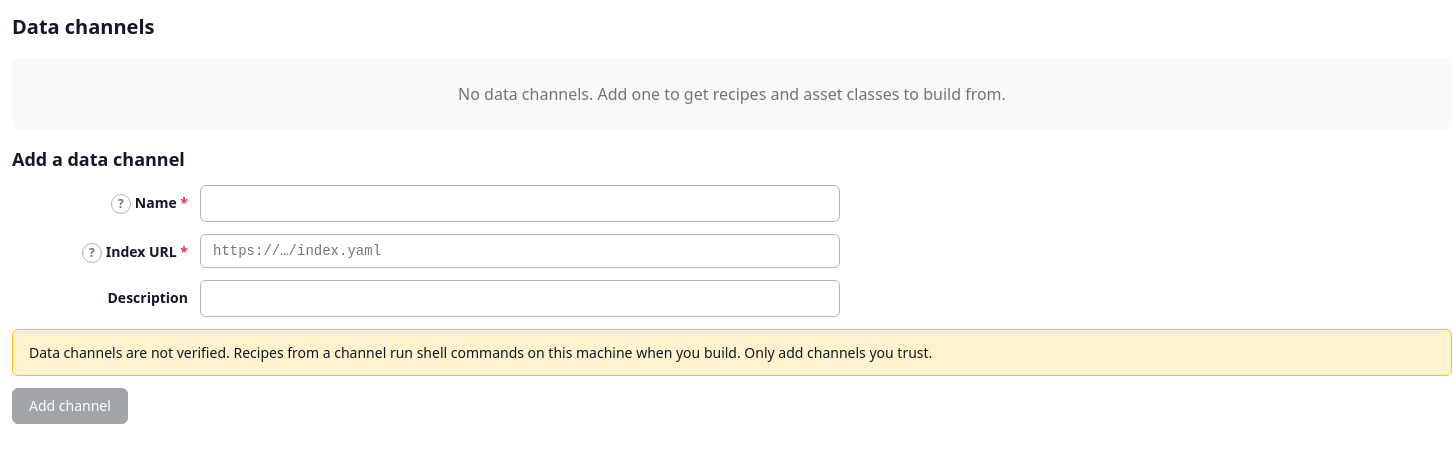
it: DataChannelPanel › rejects a non-http index before calling the backend
The image size is (1452, 467).
Expected: the text "No data channels" is shown, [458, 83, 1006, 105]
Type "local" into the field labelled "Name *" at (520, 204), box [200, 185, 840, 222]
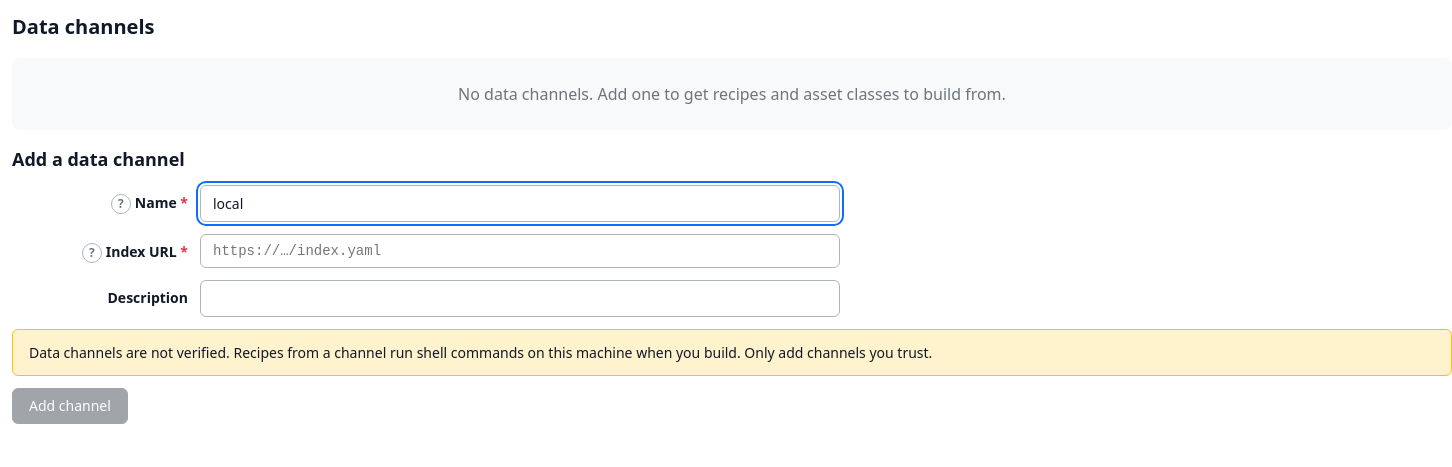
Type "/etc/index.yaml" into the field labelled "Index URL *" at (520, 251), box [200, 234, 840, 268]
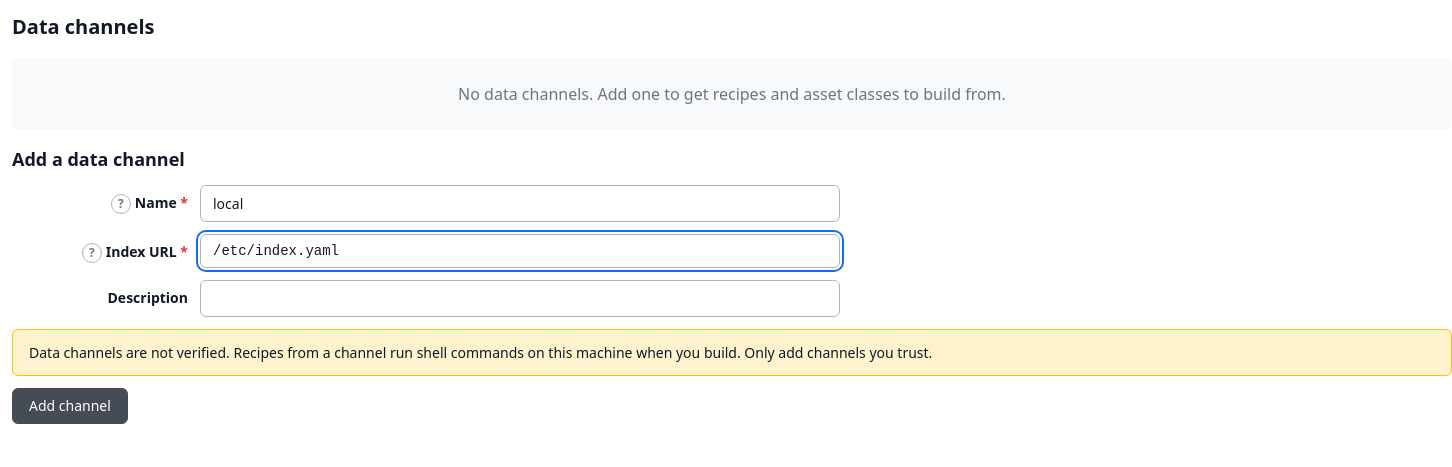
Click the button "Add channel" at (70, 406), box [12, 388, 128, 424]
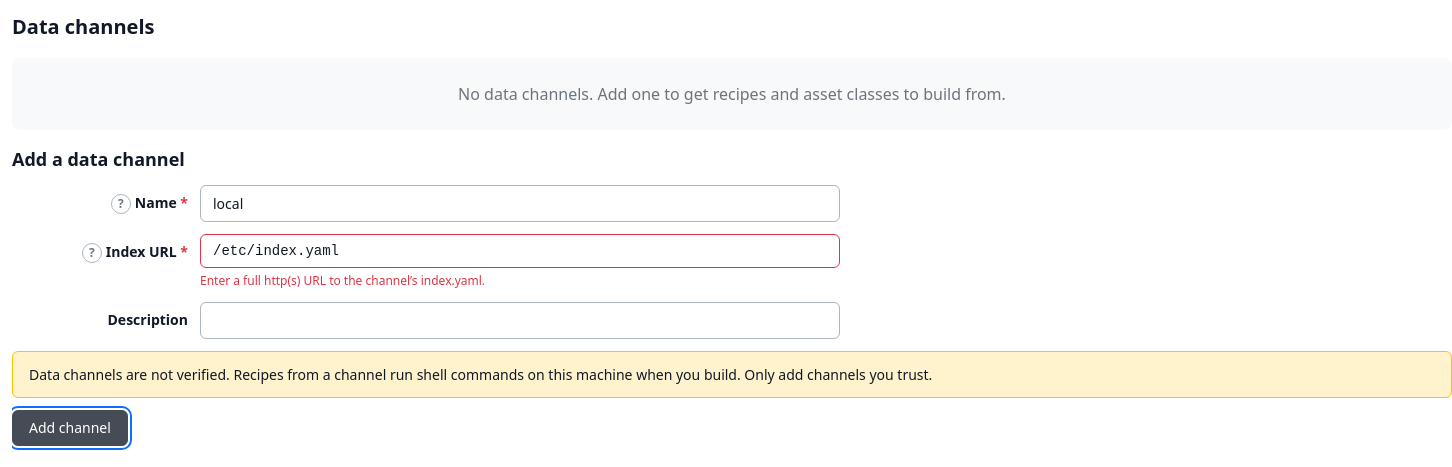
Expected: the message "Enter a full http(s) URL to the channel’s index.yaml." is shown, [200, 272, 485, 289]
